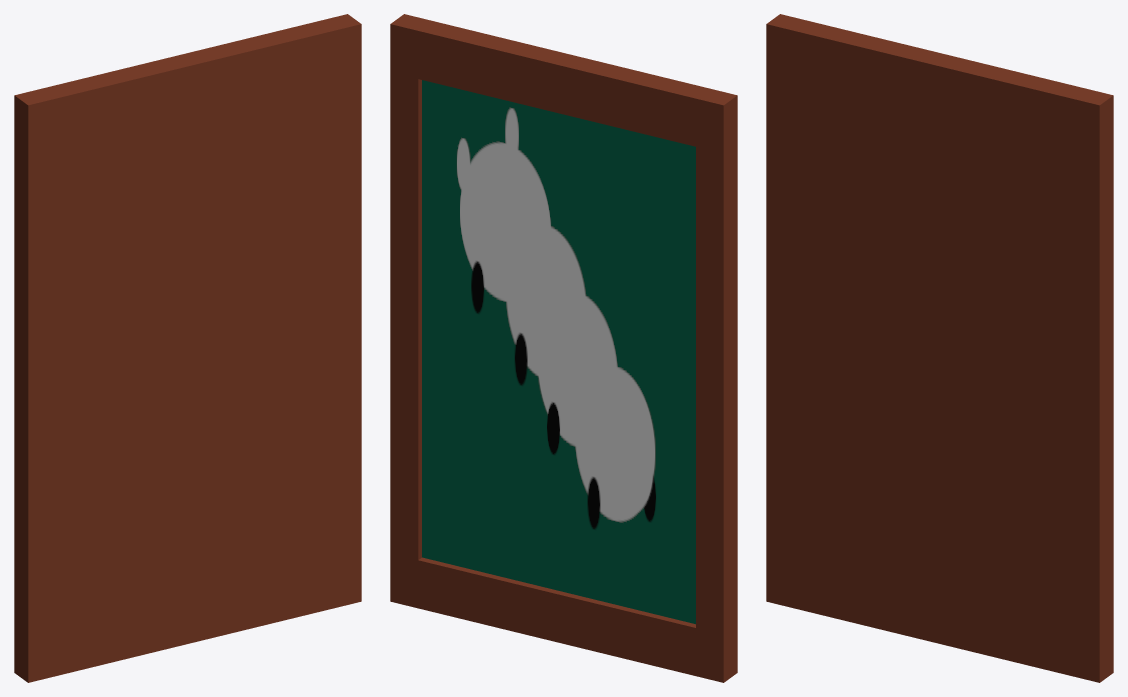
The model's file is Painting.fbx.
3 views of the same model, side by side, from view 1: azimuth 30°, elevation 25°; view 2: azimuth 150°, elevation 25°; view 3: azimuth 330°, elevation 25° (orthographic).
Parts seen in each view (by area): view 1: Painting; view 2: Painting; view 3: Painting.
Boxes of the visible parts, x1,y1,x2,y2 form: Painting: (14,14,361,682); Painting: (390,14,737,682); Painting: (766,14,1113,682).
Bounding box in the file's own units: 0.4722 × 0.0338 × 0.7817.
